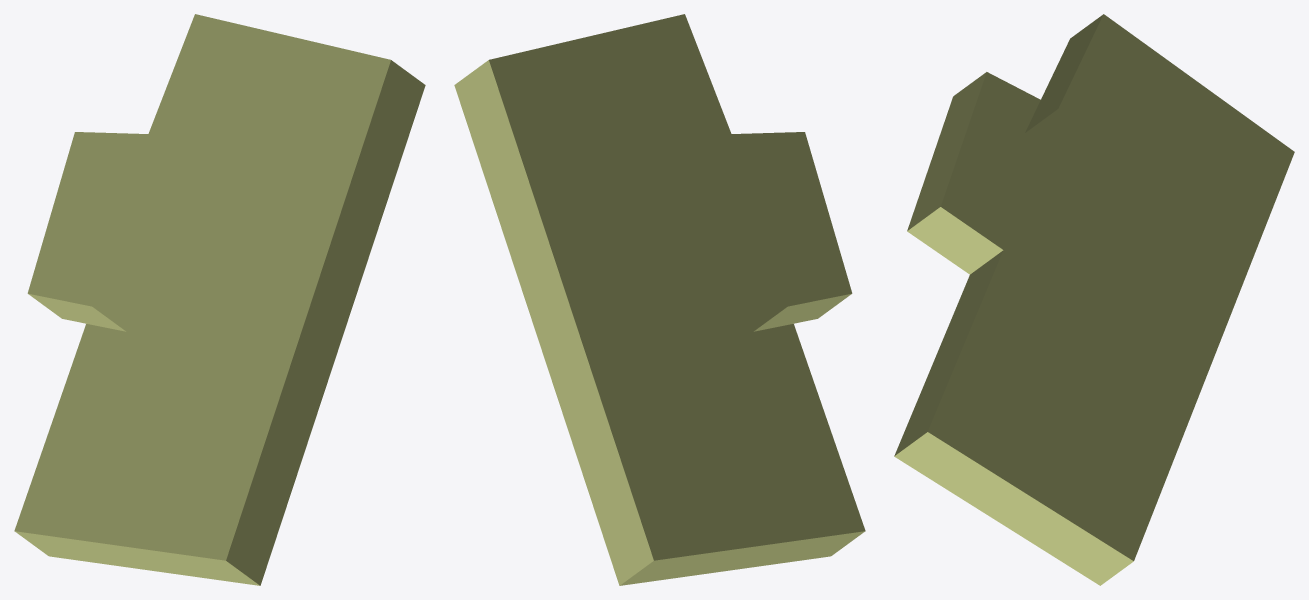
3 views of the same model, side by side, from view 1: azimuth 30°, elevation 25°; view 2: azimuth 150°, elevation 25°; view 3: azimuth 330°, elevation 25° (orthographic). The views are drawn at different scales.
Parts seen in each view (by area): view 1: 0_3_0_2_2_1_1; view 2: 0_3_0_2_2_1_1; view 3: 0_3_0_2_2_1_1.
Boxes of the visible parts, x1,y1,x2,y2 form: 0_3_0_2_2_1_1: [14, 14, 425, 585]; 0_3_0_2_2_1_1: [454, 14, 865, 585]; 0_3_0_2_2_1_1: [894, 14, 1294, 585].
Size of the model in its own units: 37.83 by 53.17 by 6.
